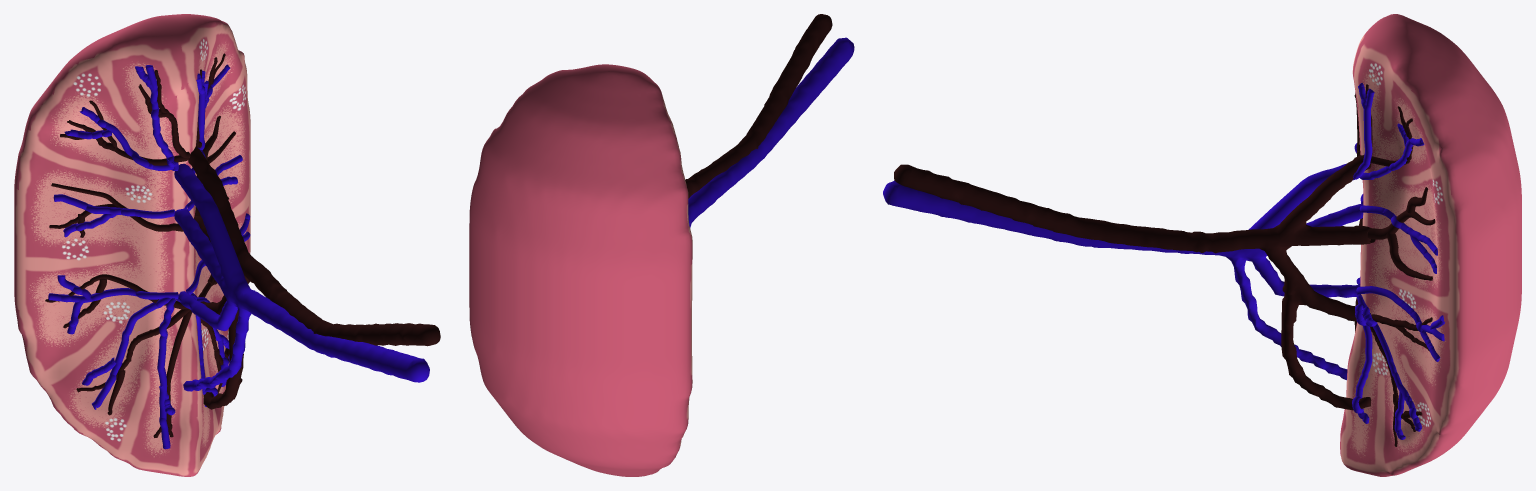
The model's file is Spleen.glb.
The picture shows the model from 3 angles, left to right: view 1: azimuth 30°, elevation 25°; view 2: azimuth 150°, elevation 25°; view 3: azimuth 270°, elevation 25°; orthographic projection. The views are drawn at different scales.
Visible parts, largest first — view 1: spleen_export2objcleanermaterialmergergles; view 2: spleen_export2objcleanermaterialmergergles; view 3: spleen_export2objcleanermaterialmergergles.
Boxes of the visible parts, box(x1,y1,x2,y2) form: spleen_export2objcleanermaterialmergergles: box(14, 14, 440, 476); spleen_export2objcleanermaterialmergergles: box(469, 14, 854, 476); spleen_export2objcleanermaterialmergergles: box(883, 14, 1521, 476).
Bounding box in the file's own units: 3.63 × 6.52 × 8.59.
Materials: 3 (2 with a texture image).
